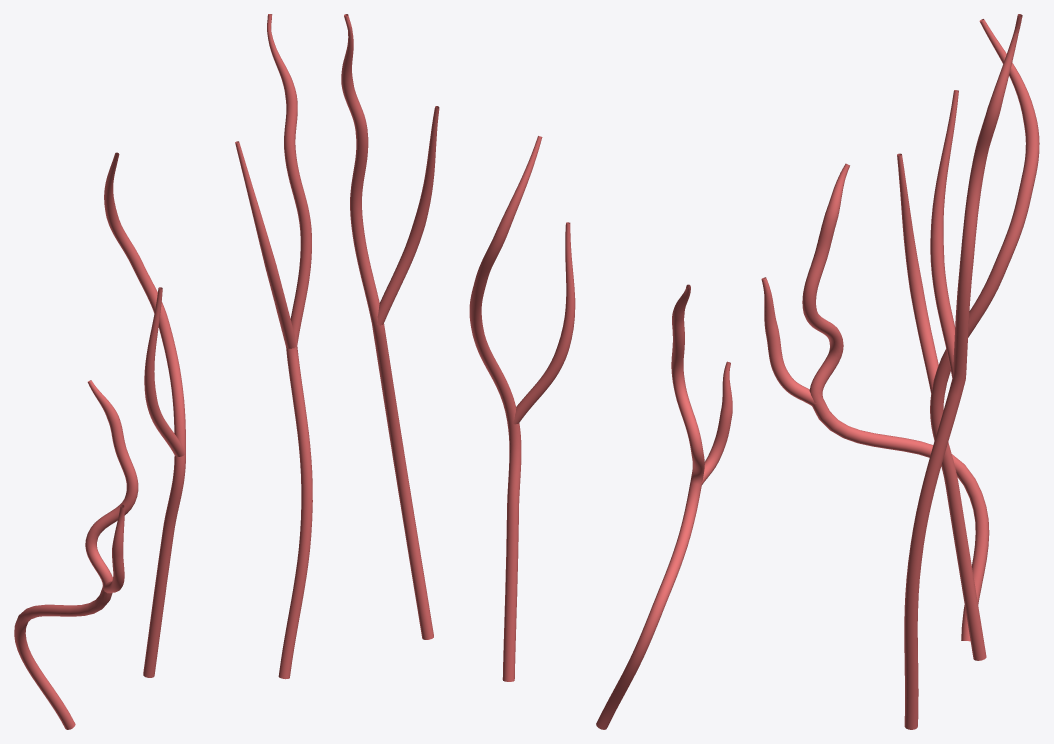
File: Proximal_lateral_striate_branches.l_BezierCurve.276.glb
3 views of the same model, side by side, from view 1: azimuth 30°, elevation 25°; view 2: azimuth 150°, elevation 25°; view 3: azimuth 270°, elevation 25° (orthographic). The views are drawn at different scales.
Parts seen in each view (by area): view 1: Proximal_lateral_striate_branches.l_BezierCurve.276; view 2: Proximal_lateral_striate_branches.l_BezierCurve.276; view 3: Proximal_lateral_striate_branches.l_BezierCurve.276.
Part boxes in pixels (left/top/right/bottom): Proximal_lateral_striate_branches.l_BezierCurve.276: left=14, top=14, right=312, bottom=729; Proximal_lateral_striate_branches.l_BezierCurve.276: left=341, top=14, right=732, bottom=729; Proximal_lateral_striate_branches.l_BezierCurve.276: left=761, top=14, right=1039, bottom=729.
Size of the model in its own units: 0.00586 by 0.0122 by 0.00407.
